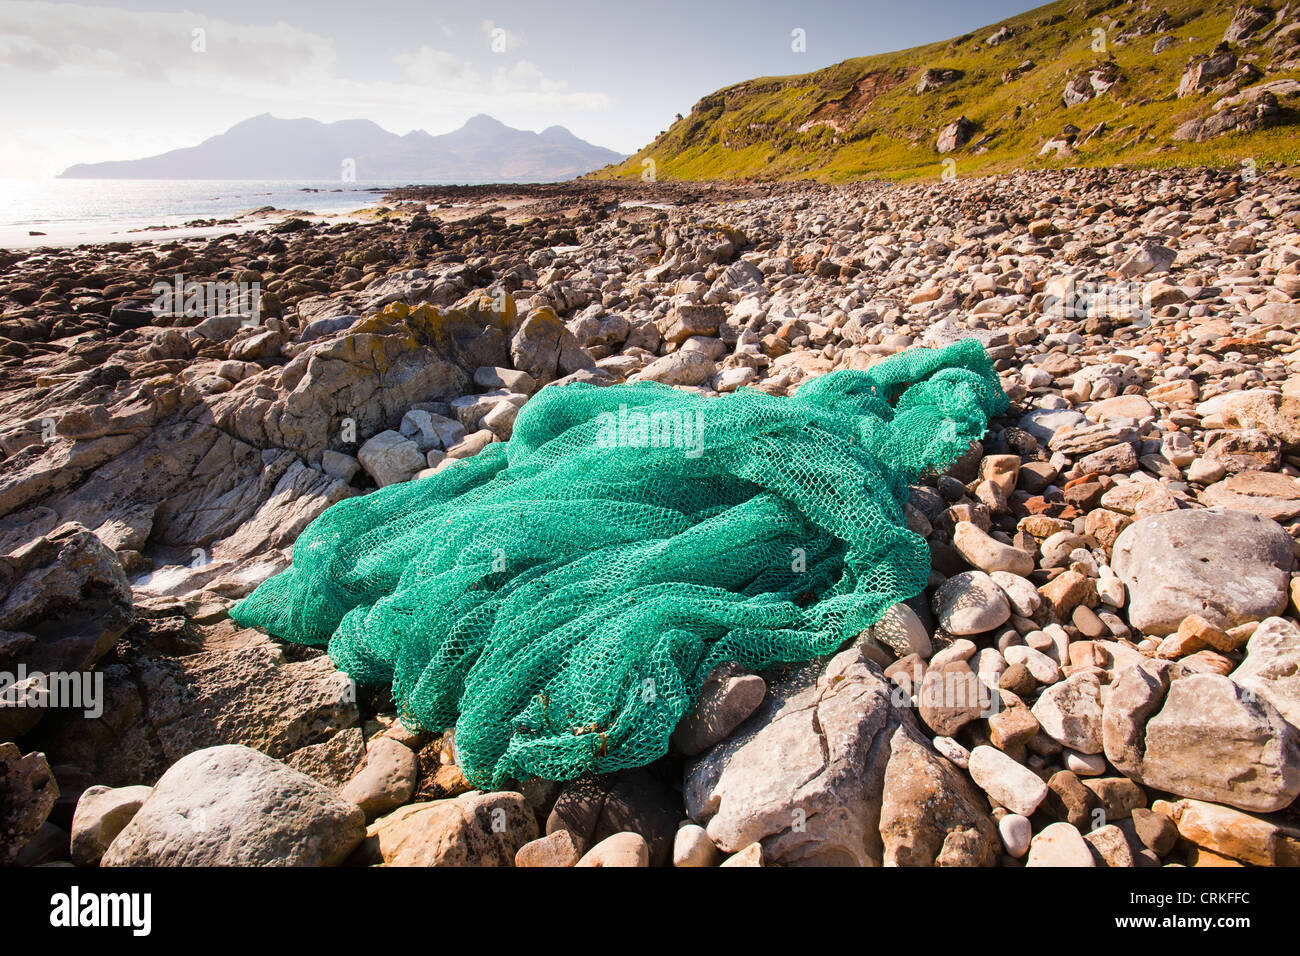fishingnet: (222, 336, 1012, 793)
